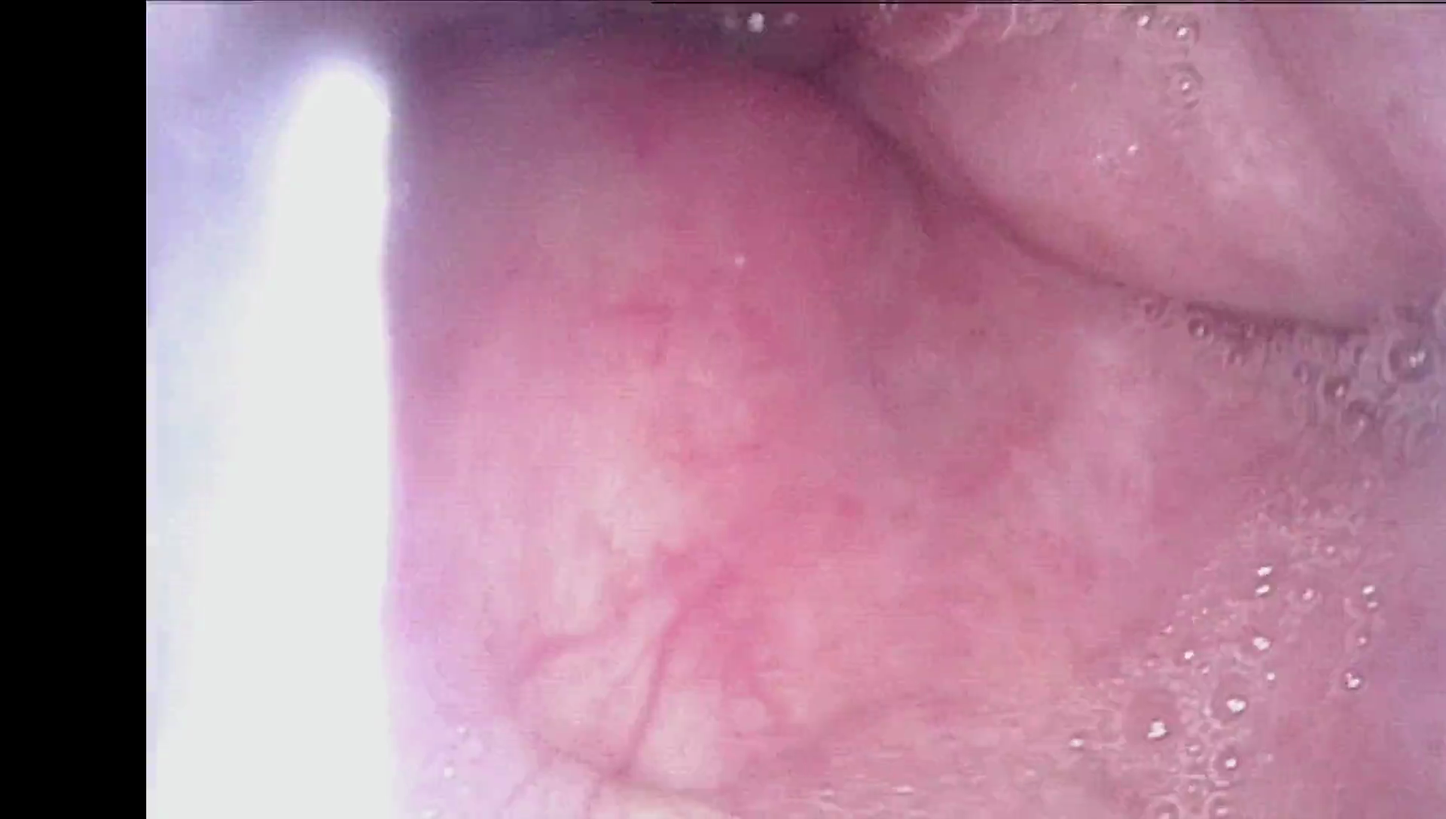next: (529, 5, 865, 96)
